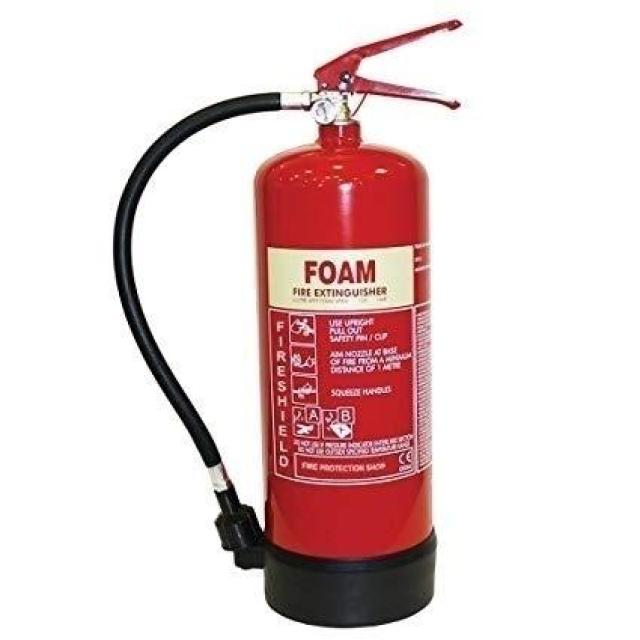fire_extinguisher: (105, 13, 467, 632)
